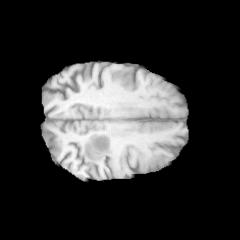glioma: (83, 134, 111, 161)
